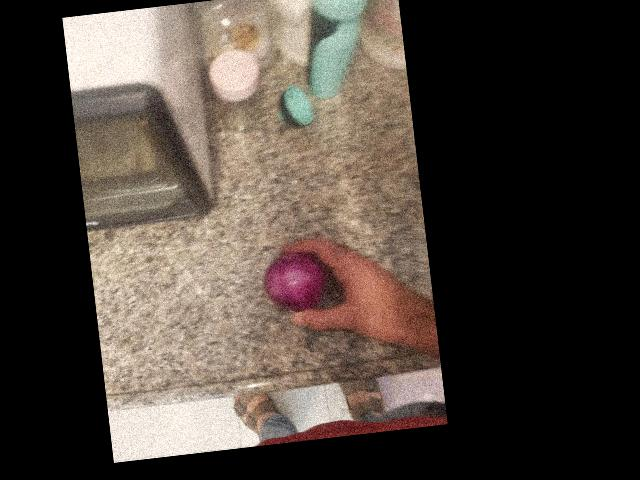onion: (76, 179, 165, 271)
